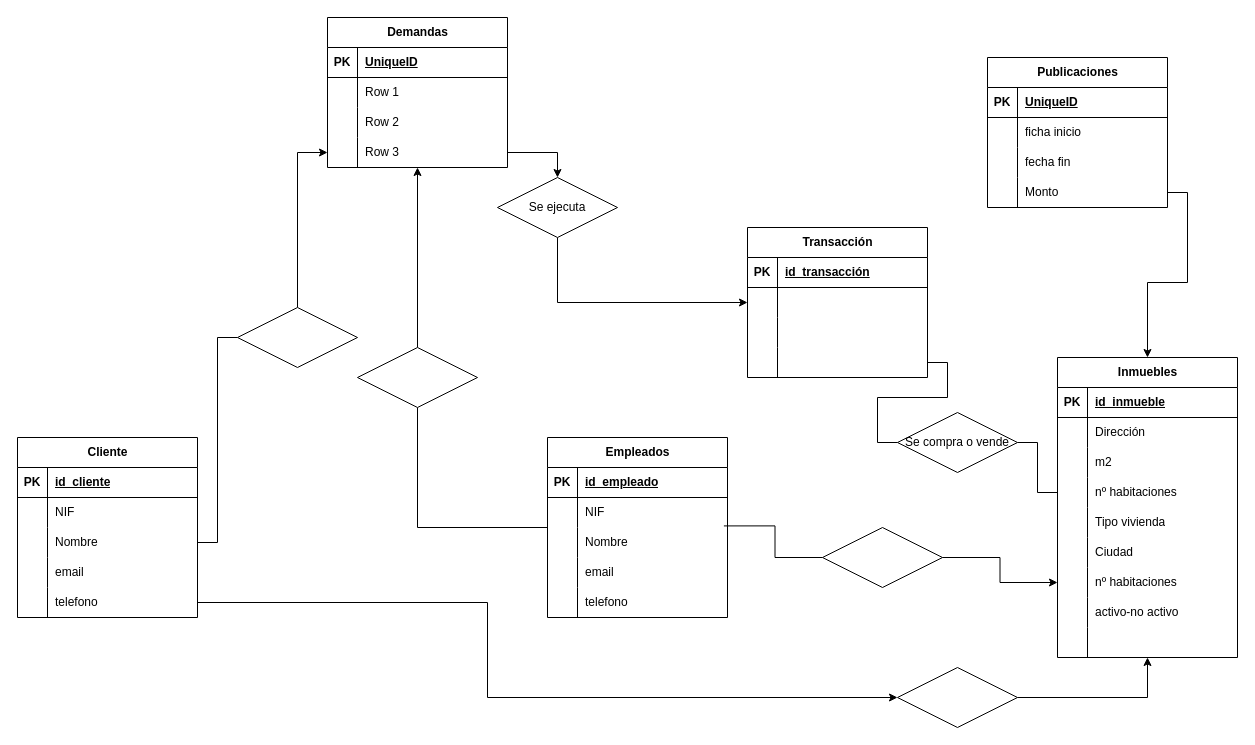
Image size: 1255x745. Some labels were removed from this diagram. Here are the shapes that lost their labels. From the top down, the centre of each, then its label:
the point at 297,337: Realiza
the point at 417,377: Atiende (fuera por ahora)
the point at 882,557: Capta
the point at 957,697: Tiene OK
